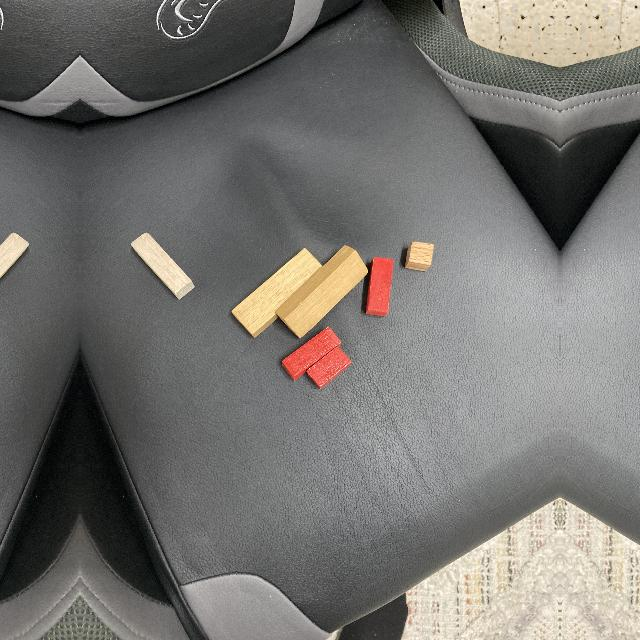cube: (406, 241, 435, 272)
jenga: (275, 244, 369, 339), (231, 247, 323, 338), (129, 232, 196, 300), (0, 232, 31, 279)
red block: (282, 327, 341, 381), (306, 348, 352, 389), (364, 257, 394, 317)
